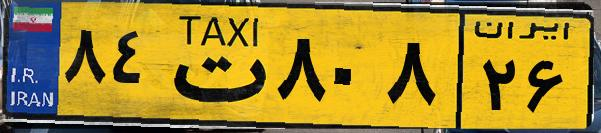0: (330, 28, 385, 110)
2: (475, 38, 525, 113)
4: (110, 28, 158, 98)
6: (525, 38, 570, 115)
8: (270, 28, 330, 110), (385, 28, 445, 110), (57, 26, 110, 100)
ت: (158, 12, 270, 120)
